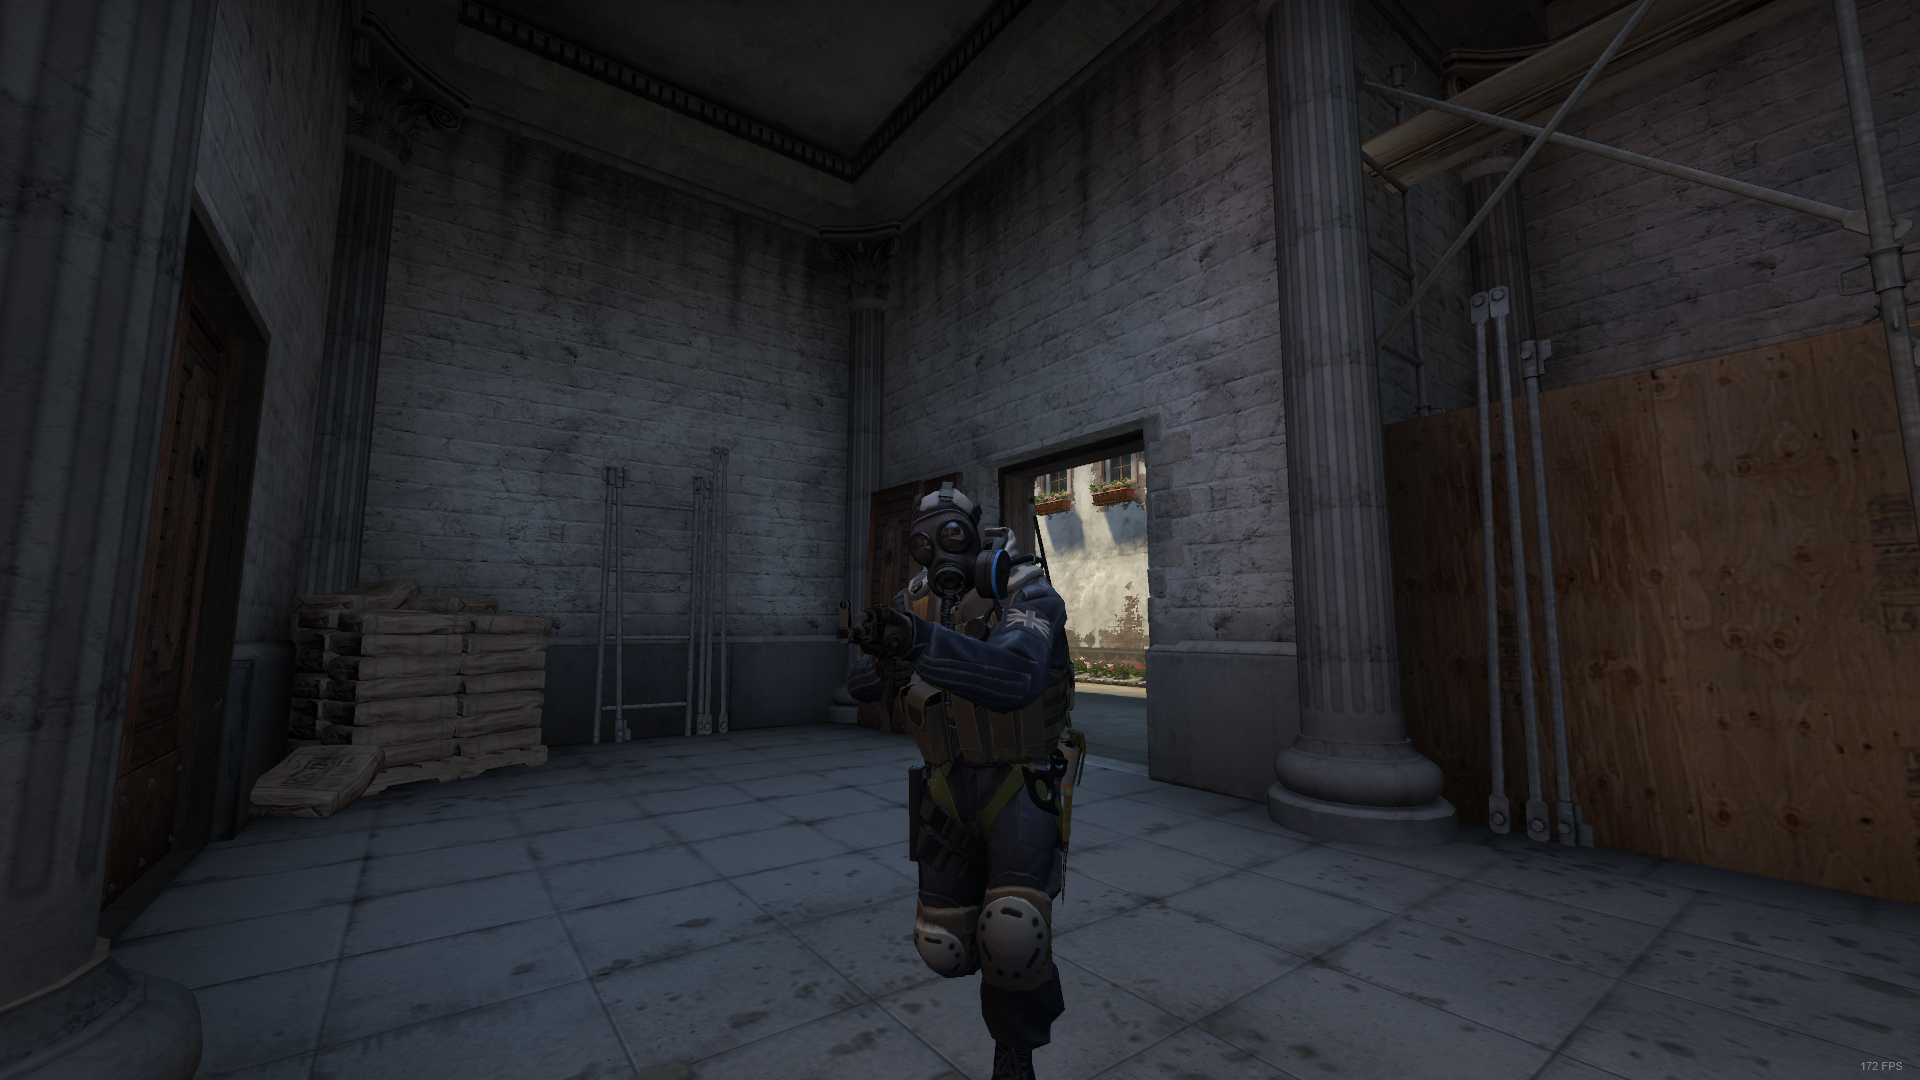ct: (847, 480, 1109, 1076)
